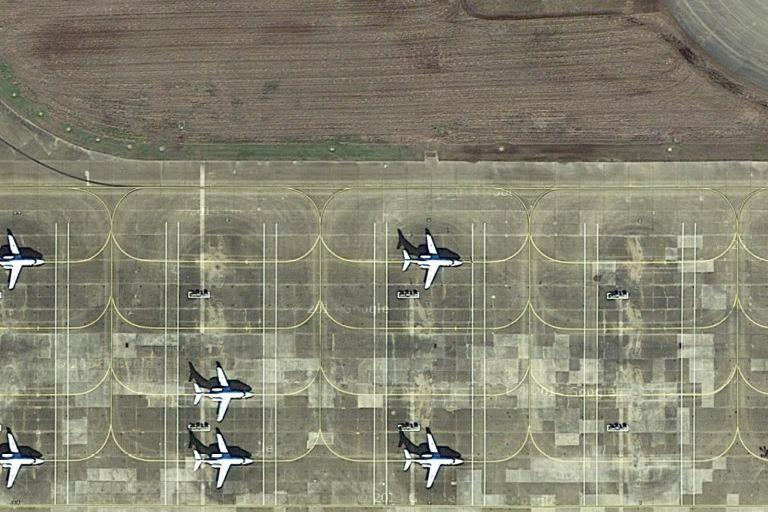plane: (397, 431, 470, 490), (190, 431, 259, 491), (191, 364, 256, 424), (398, 232, 465, 288), (1, 230, 46, 291), (3, 427, 46, 488)
